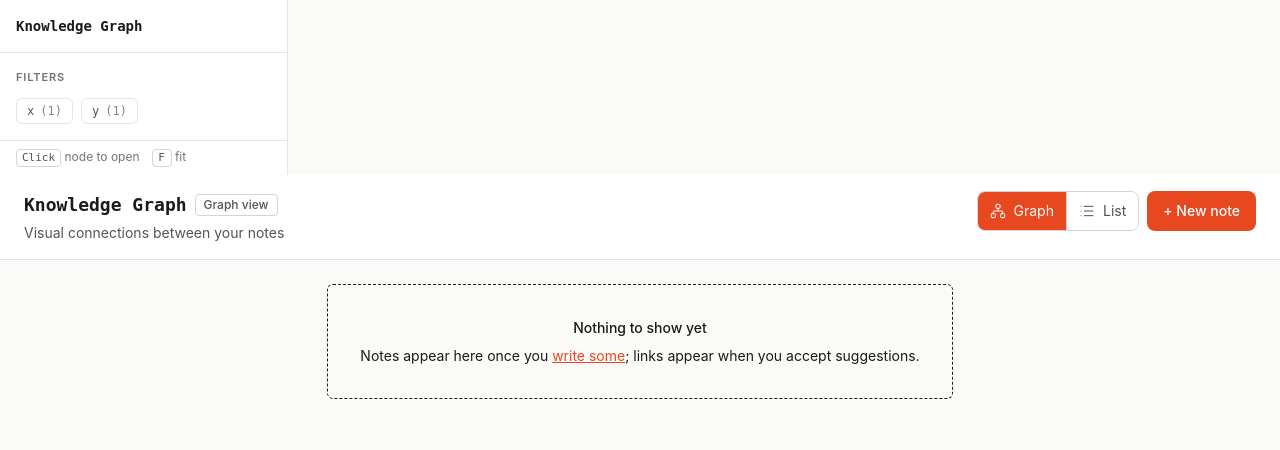
GraphView › says when the graph is empty, and when a tag filter leaves nothing
Expected: the text "Nothing to show yet" is shown, [573,319,707,336]
Click the button "x (1)" at (44, 110), box [16,98,73,124]
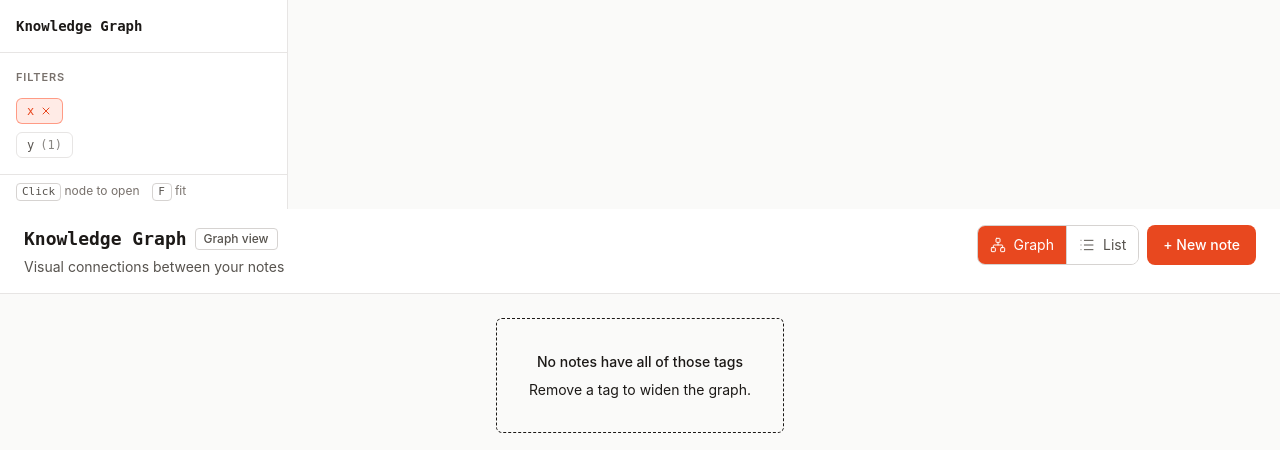
Expected: the text "No notes have all of those tags" is shown, [529,351,751,372]
